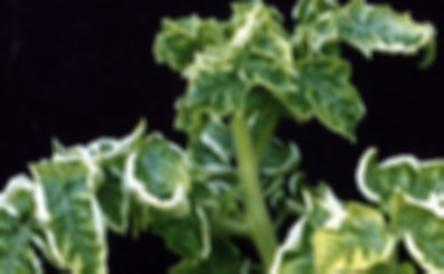Tomato leaf yellow virus: (33, 151, 113, 274), (305, 4, 437, 76), (292, 49, 372, 147), (124, 127, 196, 232), (350, 139, 444, 215), (298, 202, 396, 274), (385, 191, 444, 274), (0, 191, 47, 274)
